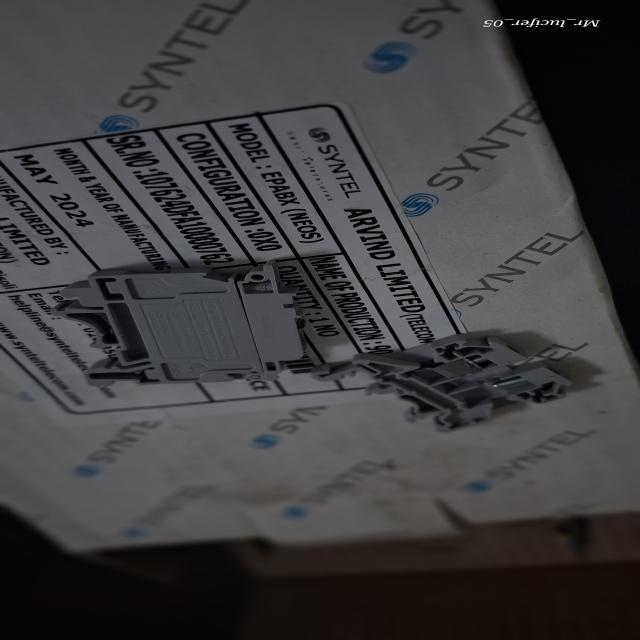Inverted: (37, 245, 324, 400)
Pass: (324, 326, 583, 436)
